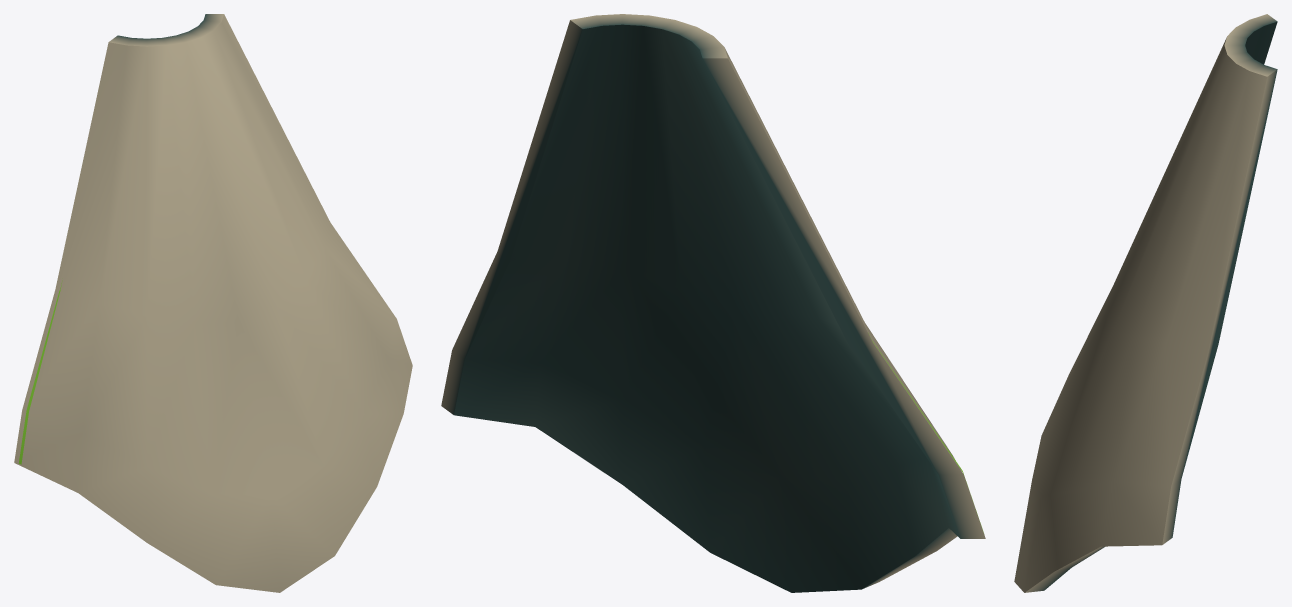
Rendered from intake_petal.glb.
3 renders of one model, left to right at view 1: azimuth 30°, elevation 25°; view 2: azimuth 150°, elevation 25°; view 3: azimuth 270°, elevation 25°, orthographic. The views are drawn at different scales.
Visible parts, largest first — view 1: Petal; view 2: Petal; view 3: Petal.
Boxes of the visible parts, bbox=[...] form: Petal: bbox=[14, 14, 412, 592]; Petal: bbox=[441, 14, 985, 592]; Petal: bbox=[1014, 14, 1277, 592].
Size of the model in its own units: 8.66 by 10 by 4.45.
